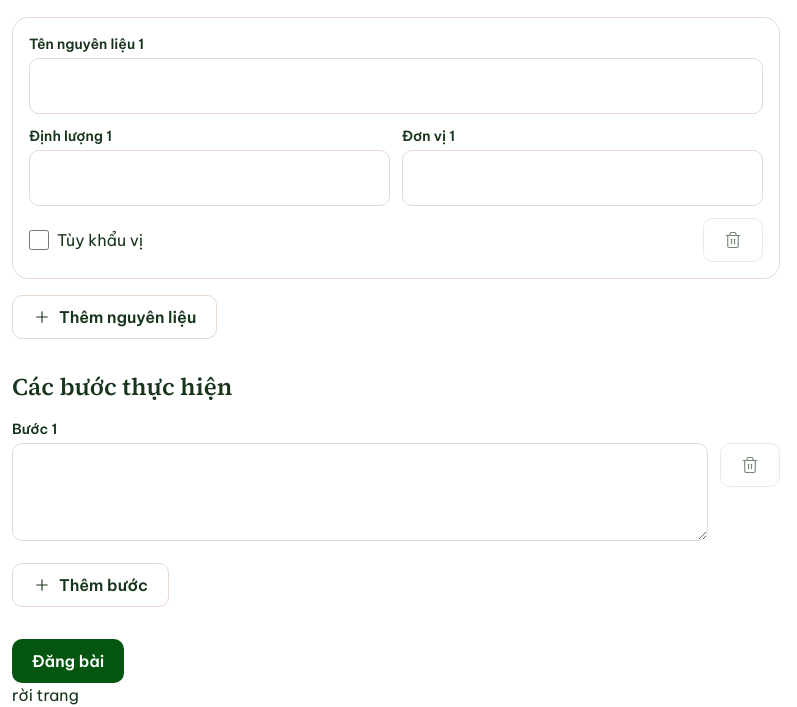
Test: CreatePostPage › shows validation errors under the right fields and does not submit
The image size is (797, 707).
(page scrolled)
Click the button "Đăng bài": [68, 661] box [12,639,124,683]
(page scrolled)
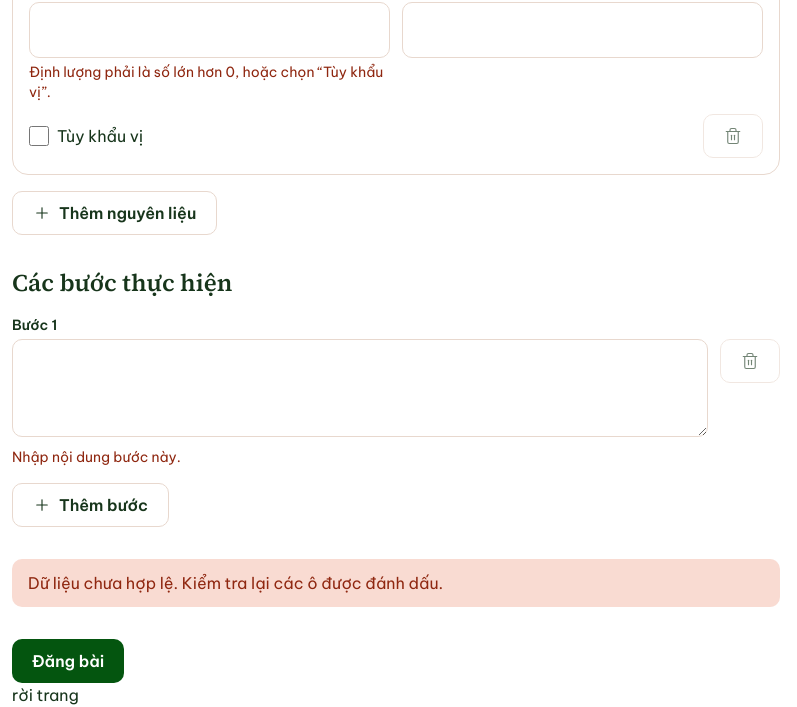
Check: the text "Nhập nội dung bước này." is shown, box [12,448,181,466]
